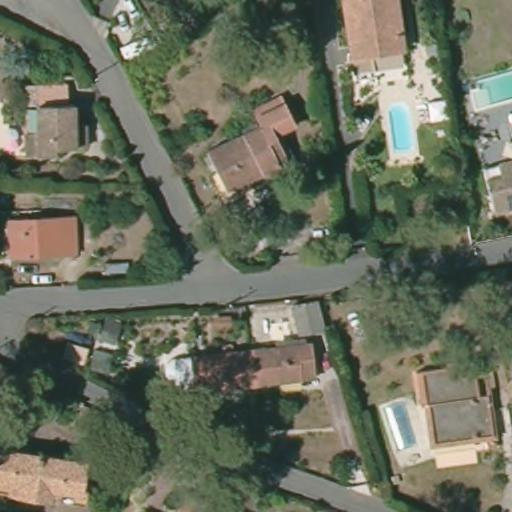pool: (385, 99, 423, 156), (382, 401, 420, 451), (468, 67, 511, 108)
